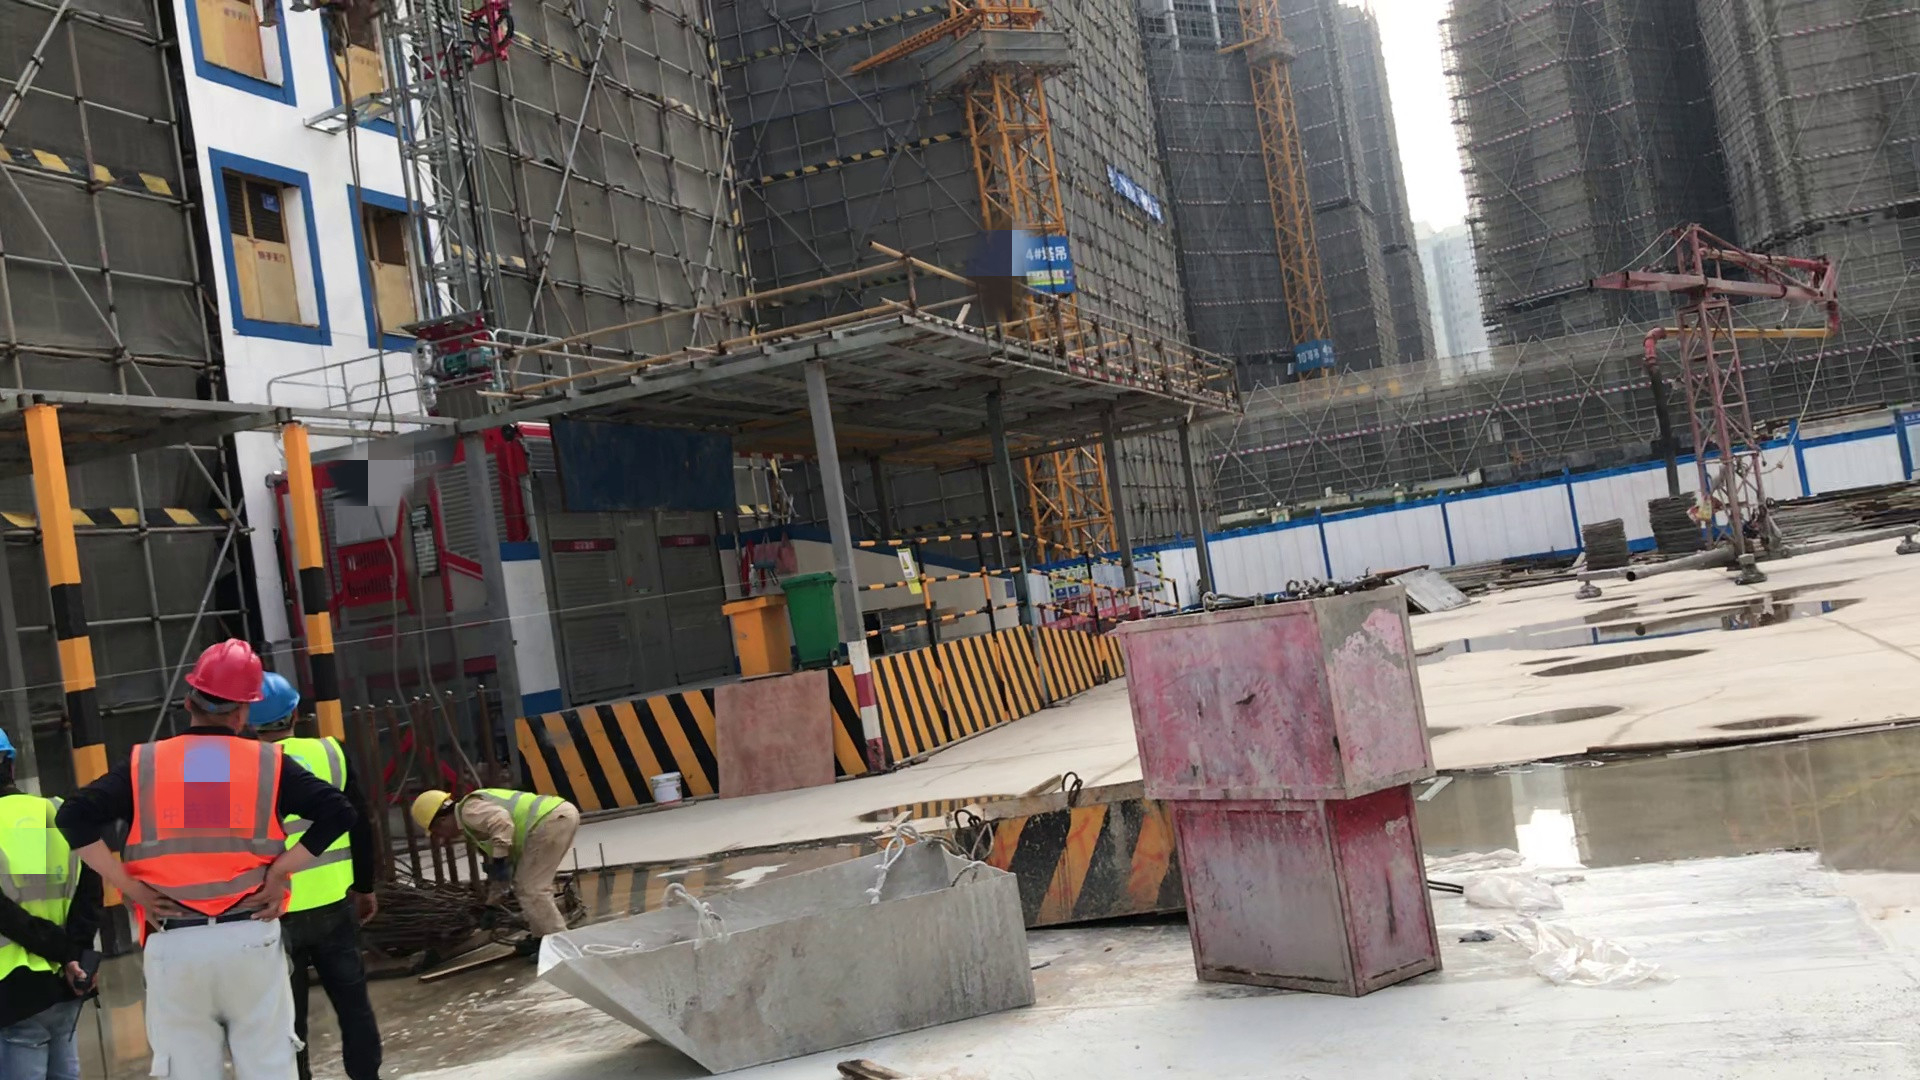fence: (846, 506, 1215, 650)
helmet: (192, 629, 268, 709), (253, 665, 312, 725), (407, 790, 456, 839)
hopper: (534, 835, 1035, 1063), (951, 785, 1197, 939)
person: (60, 641, 363, 1080), (248, 671, 390, 1080), (1, 723, 97, 1078), (404, 773, 581, 961)
slogan: (1106, 146, 1178, 217)
vest: (114, 730, 293, 935), (1, 791, 97, 997), (262, 735, 360, 920), (455, 790, 581, 858)
